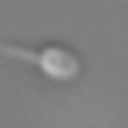normal: (1, 37, 41, 69)
